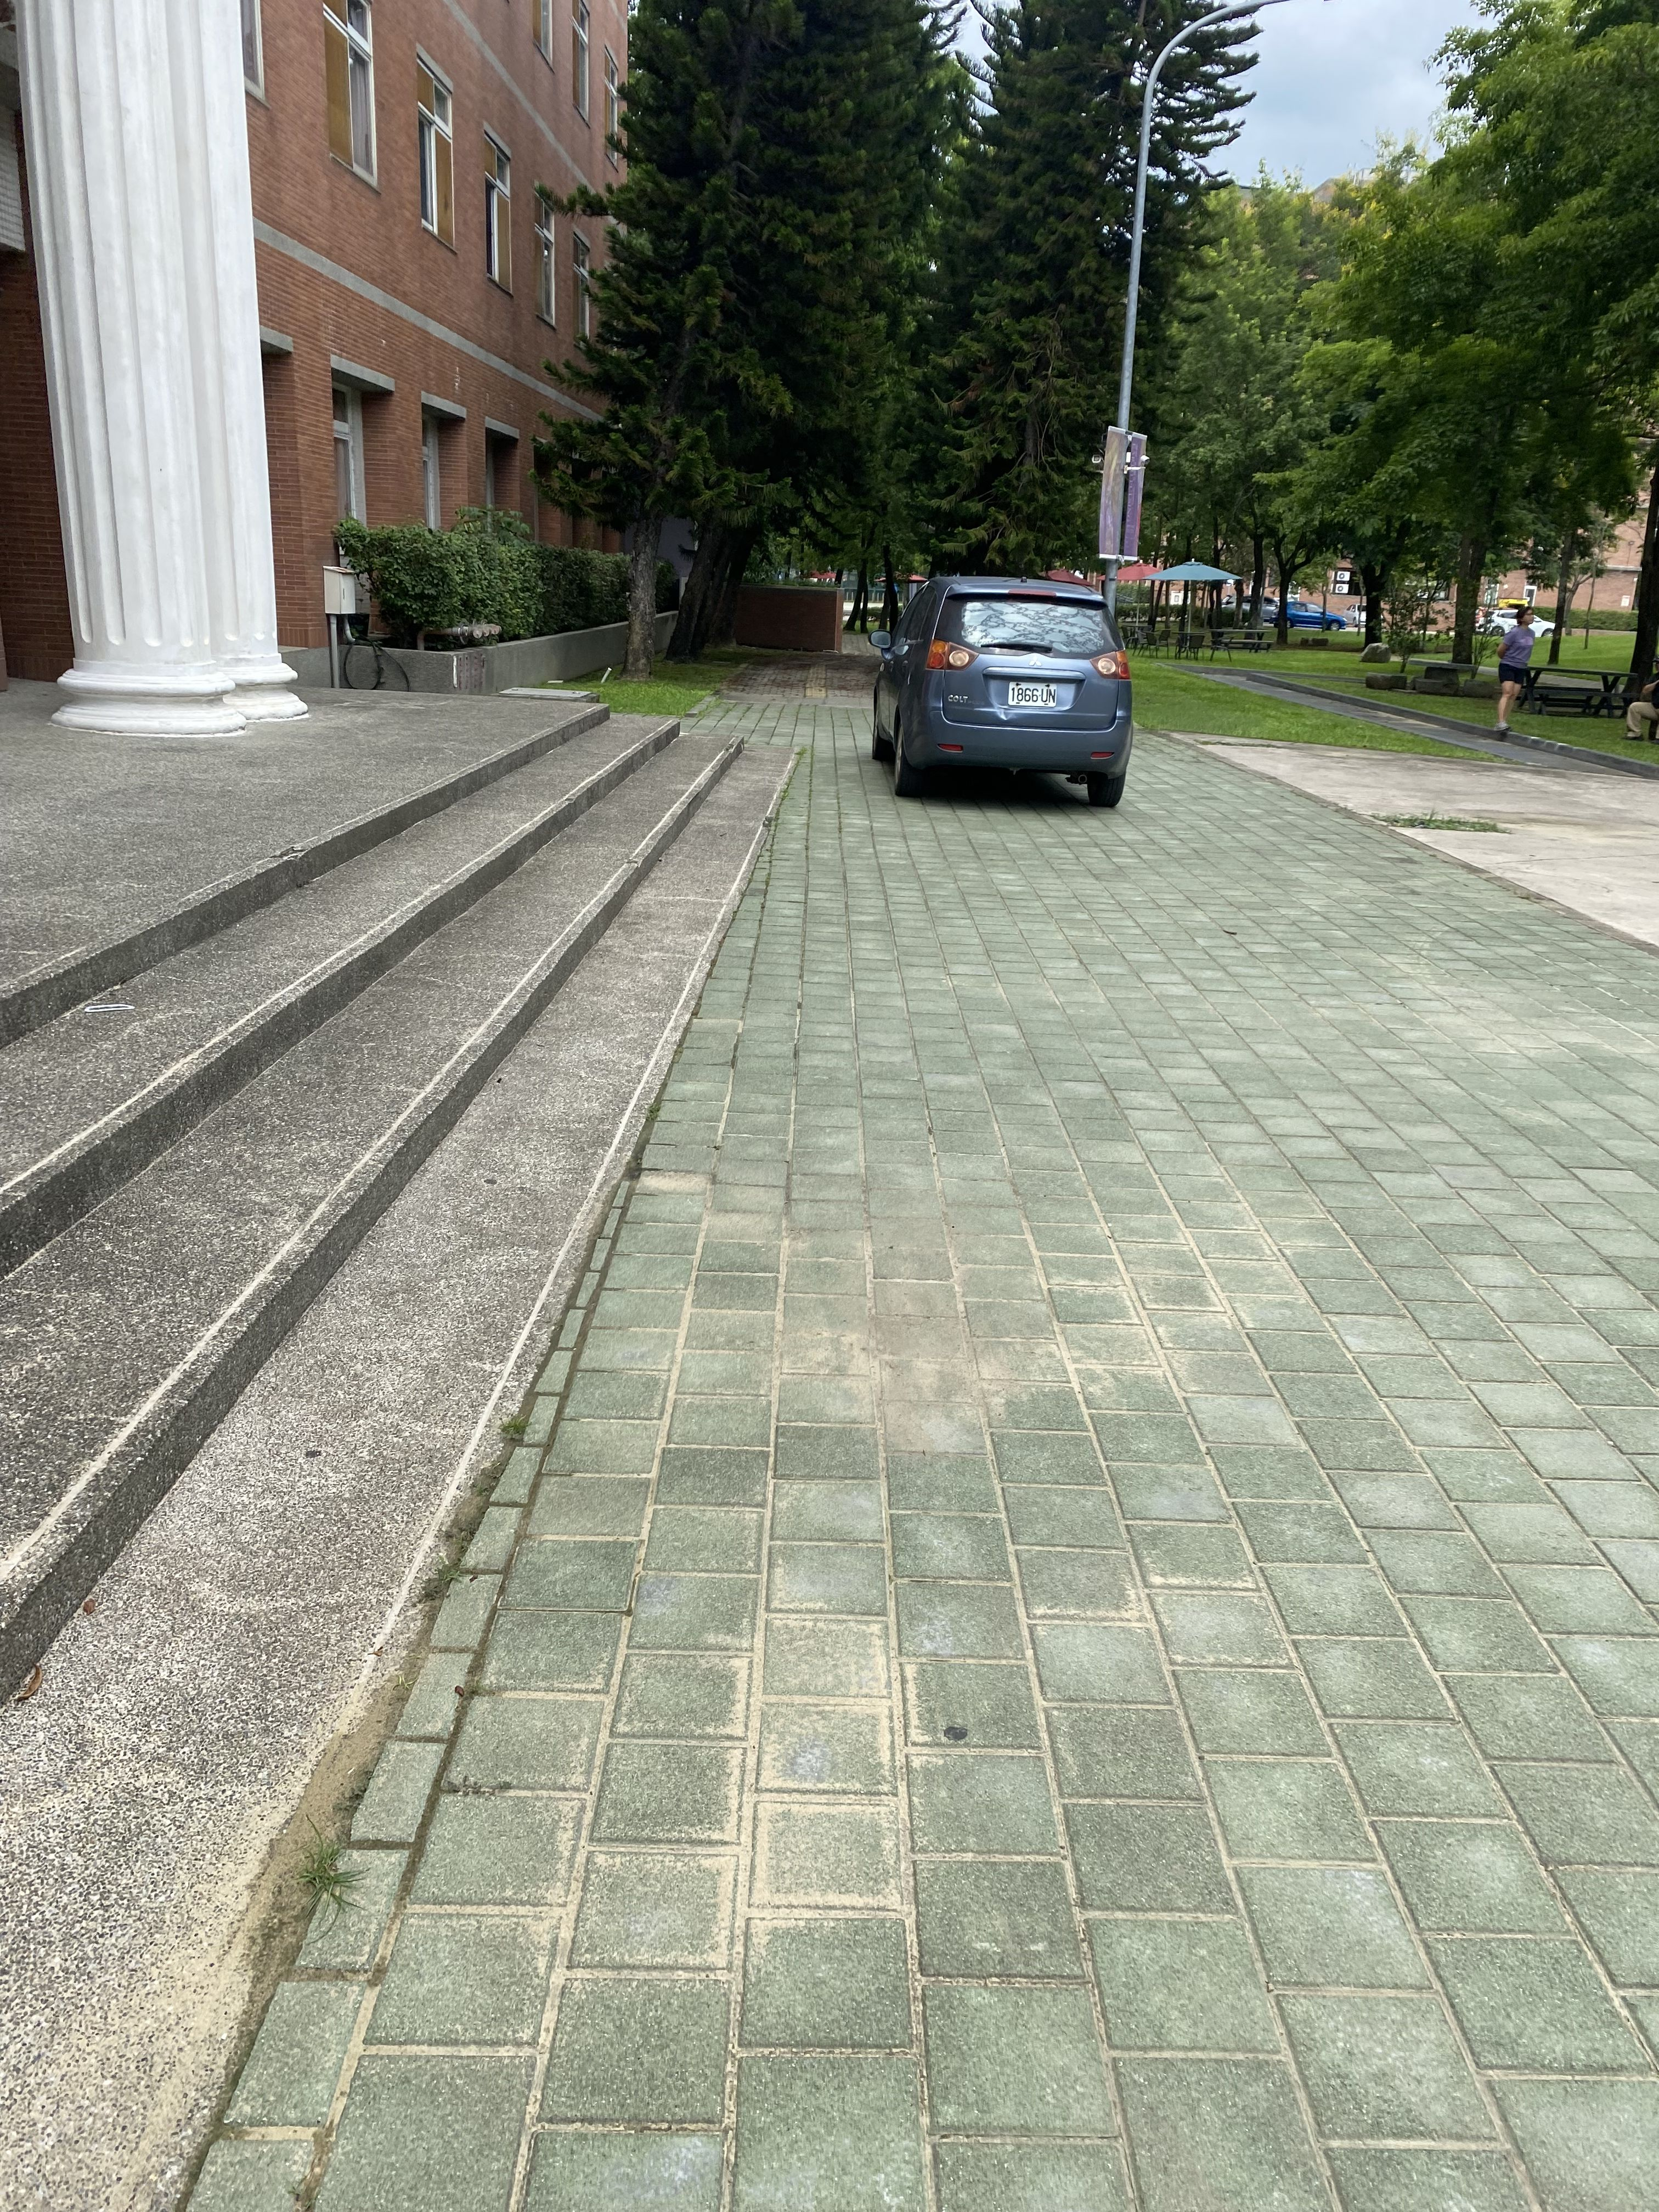sidewalk: (3, 631, 1659, 2212)
